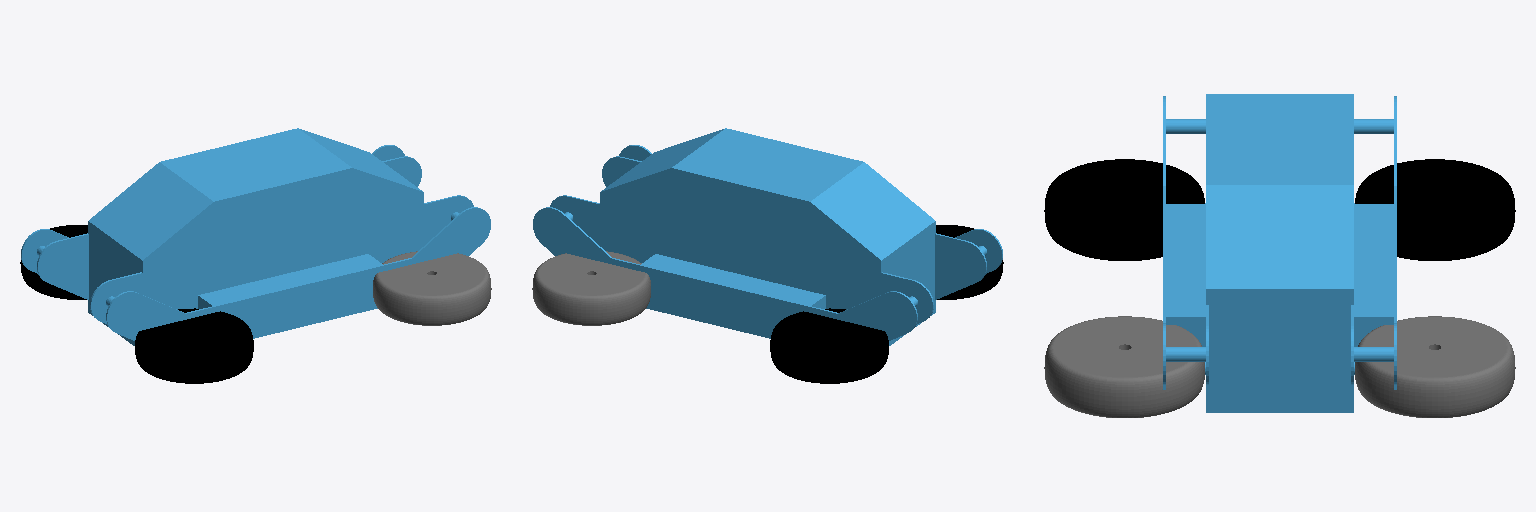
The robot description file, URDF, robot "guardian":
<?xml version="1.0"?>
<robot name="guardian"

       xmlns:xi="http://www.w3.org/2001/XInclude"
       xmlns:gazebo="http://playerstage.sourceforge.net/gazebo/xmlschema/#gz"
       xmlns:model="http://playerstage.sourceforge.net/gazebo/xmlschema/#model"
       xmlns:sensor="http://playerstage.sourceforge.net/gazebo/xmlschema/#sensor"
       xmlns:body="http://playerstage.sourceforge.net/gazebo/xmlschema/#body"
       xmlns:geom="http://playerstage.sourceforge.net/gazebo/xmlschema/#geom"
       xmlns:joint="http://playerstage.sourceforge.net/gazebo/xmlschema/#joint"
       xmlns:interface="http://playerstage.sourceforge.net/gazebo/xmlschema/#interface"
       xmlns:rendering="http://playerstage.sourceforge.net/gazebo/xmlschema/#rendering"
       xmlns:renderable="http://playerstage.sourceforge.net/gazebo/xmlschema/#renderable"
       xmlns:controller="http://playerstage.sourceforge.net/gazebo/xmlschema/#controller"
       xmlns:physics="http://playerstage.sourceforge.net/gazebo/xmlschema/#physics">

  <!-- BASE FOOTPRINT -->

  <!-- base_footprint is a fictitious link(frame) that is on the ground right below base_link origin,
             navigation stack depends on this frame -->
  <link name="base_footprint">
      <inertial>
          <mass value="0.0001" />
          <origin xyz="0 0 0" />
      <inertia ixx="0.0001" ixy="0.0" ixz="0.0"
                         iyy="0.0001" iyz="0.0" 
                         izz="0.0001" />
      </inertial>

      <visual>
          <origin xyz="0 0 0" rpy="0 0 0" />
          <geometry>
             <box size="0.001 0.001 0.001" />
          </geometry>
      </visual>

      <collision>
          <origin xyz="0 0 0.0" rpy="0 0 0" /> <!-- 0.0 0.0 0.1285 //meu 0 0 0.151 -->
          <geometry>
            <box size="0.001 0.001 0.001" />
         </geometry>
     </collision>
  </link>

  <gazebo reference="base_footprint">
    <material>Gazebo/Green</material>
    <turnGravityOff>false</turnGravityOff>
  </gazebo>

  <joint name="base_footprint_joint" type="fixed">
     <!--NB: While you would think this would make it go up, it is oddly reversed.
      This moves the joint to 0,0,0 where we want it for rviz, etc. -->
     <origin xyz="0 0 0.130" rpy="0 0 0" />    <!-- 0.0 0.0 0.161 -->     
     <parent link="base_footprint"/>
     <child link="base_link" />
  </joint>


  <!-- BASE_LINK (RED) -->

  <link name="base_link">
    <inertial>
      <mass value="70.0" />
      <origin xyz="0 0 0" />
      <inertia  ixx="1.391" ixy="0.004"  ixz="0.0"  iyy="6.853"  iyz="0.0"  izz="6.125" />
    </inertial>
    <visual>
       <origin xyz="0 0 0" rpy="0 0 0" />
       <geometry>
	 <mesh filename="package://guardian_description/meshes/chassis.stl"/>
       </geometry>
    </visual>
    <collision>
       <origin xyz="0 0 0.06" rpy="0 0 0 " />
       <geometry>
         <!--mesh filename="package://guardian_description/meshes/chassis.stl"/-->
	 <box size = "1.0 0.4 0.2"/>
       </geometry>
    </collision>     
  </link>
  <gazebo reference="base_link">
    <material>Gazebo/Red</material>
    <turnGravityOff>false</turnGravityOff>
  </gazebo>


  <!-- BACK LEFT WHEEL (BLACK) -->

  <link name="back_left_wheel">
    <inertial>
      <mass value="1.250" />
      <origin xyz="0 0 0" /> 
      <!--inertia  ixx="0.0109375" ixy="0.0"  ixz="0.0"  iyy="0.021125"  iyz="0.0"  izz="0.0109375" /-->
      <inertia  ixx="0.0109375" ixy="0.0"  ixz="0.0"  iyy="0.021125"  iyz="0.0"  izz="0.0109375" />
      <!--inertia ixx="1.0" ixy="0.0" ixz="0.0" iyy="1.0" iyz="0.0" izz="1.0"/-->
      <!--inertia  ixx="0.00584" ixy="0.0"  ixz="0.0"  iyy="0.00584"  iyz="0.0"  izz="0.01072"/-->
    </inertial>
    <visual>
       <origin xyz="0 0 0" rpy="1.5708 0 0" /> 
       <geometry>
	 <mesh filename="package://guardian_description/meshes/wheel.stl"/>
       </geometry>
	<material name="black">
		<color rgba="0 0 0 1"/>
      	</material>
    </visual>
    <collision>
       <origin xyz="0 0 0" rpy="1.5708 0 0" />
       <geometry>
         <mesh filename="package://guardian_description/meshes/wheel.stl"/>
       </geometry>
    </collision>
  </link>
  <gazebo reference="back_left_wheel">
    <mu1 value="10.0" /> <!-- Estava en tots els mu1 a 2.0 xo crec que patina massa -->
    <mu2 value="1.0" />
    <fdir1 value="1 0 0"/>
    <material>Gazebo/Black</material>
    <turnGravityOff>false</turnGravityOff>
  </gazebo>

  <joint name="joint_back_left_wheel" type="continuous">
    <parent link="base_link"/>
    <child link="back_left_wheel"/>
    <origin xyz="-0.30 0.25 0" rpy="0 0 0" /> 
    <axis xyz="0 1 0" rpy="0 0 0" />
    <limit effort="100" velocity="100"/>
    <joint_properties damping="0.0" friction="0.0"/>
  </joint>

  <transmission name="joint_blw_trans" type="pr2_mechanism_model/SimpleTransmission">
     <actuator name="joint_blw_motor" />
     <joint name="joint_back_left_wheel" />
     <mechanicalReduction>1</mechanicalReduction>
     <motorTorqueConstant>1</motorTorqueConstant>
  </transmission>


  <!-- BACK RIGHT WHEEL (BLACK) -->

  <link name="back_right_wheel">
    <inertial>
      <mass value="1.250" />
      <origin xyz="0 0 0" />
      <inertia  ixx="0.0109375" ixy="0.0"  ixz="0.0"  iyy="0.021125"  iyz="0.0"  izz="0.0109375" />
    </inertial>
    <visual>
       <origin xyz="0 0 0" rpy="1.5708 0 0" /> 
       <geometry>
         <mesh filename="package://guardian_description/meshes/wheel.stl"/>
       </geometry>
	<material name="black">
		<color rgba="0 0 0 1"/>
      	</material>
    </visual>
    <collision>
       <origin xyz="0 0 0" rpy="1.5708 0 0" /> 
       <geometry>
         <mesh filename="package://guardian_description/meshes/wheel.stl"/>
       </geometry>
    </collision>
  </link>
  <gazebo reference="back_right_wheel">
    <mu1 value="10.0" /> <!-- Estava en tots els mu1 a 2.0 -->
    <mu2 value="1.0" />
    <fdir1 value="1 0 0"/>
    <material>Gazebo/Black</material>
    <turnGravityOff>false</turnGravityOff>
  </gazebo>

  <joint name="joint_back_right_wheel" type="continuous">
    <parent link="base_link"/>
    <child link="back_right_wheel"/>
    <origin xyz="-0.30 -0.25 0" rpy="0 0 0" />
    <axis xyz="0 1 0" />
    <limit effort="100" velocity="100"/>
    <joint_properties damping="0.0" friction="0.0"/>
  </joint>

  <transmission name="joint_brw_trans" type="pr2_mechanism_model/SimpleTransmission">
     <actuator name="joint_brw_motor" />
     <joint name="joint_back_right_wheel" />
     <mechanicalReduction>1</mechanicalReduction>
     <motorTorqueConstant>1</motorTorqueConstant>
  </transmission>


  <!-- FRONT LEFT WHEEL (GREY) -->

  <link name="front_left_wheel">
    <inertial>
      <mass value="1.250" />
      <origin xyz="0 0 0" />
      <inertia  ixx="0.0109375" ixy="0.0"  ixz="0.0"  iyy="0.021125"  iyz="0.0"  izz="0.0109375" />
    </inertial>
    <visual>
       <origin xyz="0 0 0" rpy="1.5708 0 0" /> 
       <geometry>
         <mesh filename="package://guardian_description/meshes/wheel.stl"/>
       </geometry>
	<material name="gray">
		<color rgba="0.5 0.5 0.5 1"/>
      	</material>
    </visual>
    <collision>
       <origin xyz="0 0 0" rpy="1.5708 0 0" /> 
       <geometry>
         <mesh filename="package://guardian_description/meshes/wheel.stl"/>
       </geometry>
    </collision>
  </link>
  <gazebo reference="front_left_wheel">
    <mu1 value="10.0" /> <!-- Estava en tots els mu1 a 2.0 -->
    <mu2 value="1.0" />
    <fdir1 value="1 0 0"/>
    <material>Gazebo/Grey</material>
    <turnGravityOff>false</turnGravityOff>
  </gazebo>

  <joint name="joint_front_left_wheel" type="continuous">
    <parent link="base_link"/>
    <child link="front_left_wheel"/>
    <origin xyz="0.30 0.25 0" rpy="0 0 0" />
    <axis xyz="0 1 0" />
    <limit effort="100" velocity="100"/>
    <joint_properties damping="0.0" friction="0.0"/>
  </joint>

  <transmission name="joint_flw_trans" type="pr2_mechanism_model/SimpleTransmission">
     <actuator name="joint_flw_motor" />
     <joint name="joint_front_left_wheel" />
     <mechanicalReduction>1</mechanicalReduction>
     <motorTorqueConstant>1</motorTorqueConstant>
  </transmission>


  <!-- FRONT RIGHT WHEEL (GREY) -->

  <link name="front_right_wheel">
    <inertial>
      <mass value="1.250" />
      <origin xyz="0 0 0" />
      <inertia  ixx="0.0109375" ixy="0.0"  ixz="0.0"  iyy="0.021125"  iyz="0.0"  izz="0.0109375" />
    </inertial>
    <visual>
       <origin xyz="0 0 0" rpy="1.5708 0 0" /> 
       <geometry>
         <mesh filename="package://guardian_description/meshes/wheel.stl"/>
       </geometry>
	<material name="grey">
		<color rgba="0.5 0.5 0.5 1"/>
      	</material>
    </visual>
    <collision>
       <origin xyz="0 0 0" rpy="1.5708 0 0" /> 
       <geometry>
         <mesh filename="package://guardian_description/meshes/wheel.stl"/> 
       </geometry>
    </collision>
  </link>
  <gazebo reference="front_right_wheel">
    <mu1 value="10.0" /> <!-- Estava en tots els mu1 a 2.0 -->
    <mu2 value="1.0" /> <!-- Estava en tots els mu2 a 0.5 -->
    <fdir1 value="1 0 0"/>
    <material>Gazebo/Grey</material>
    <turnGravityOff>false</turnGravityOff>
  </gazebo>

  <joint name="joint_front_right_wheel" type="continuous">
    <parent link="base_link"/>
    <child link="front_right_wheel"/>
    <origin xyz="0.30 -0.25 0" rpy="0 0 0" />
    <axis xyz="0 1 0" />
    <limit effort="100" velocity="100"/>
    <joint_properties damping="0.0" friction="0.0"/>
  </joint>

  <transmission name="joint_frw_trans" type="pr2_mechanism_model/SimpleTransmission">
     <actuator name="joint_frw_motor" />
     <joint name="joint_front_right_wheel" />
     <mechanicalReduction>1</mechanicalReduction>
     <motorTorqueConstant>1</motorTorqueConstant>
  </transmission>


  <!-- HOKUYO SENSOR -->

  <joint name="hokuyo_laser_joint" type="fixed">
     <axis xyz="0 1 0" />
     <origin xyz="0.12 0 0.285"/>
     <parent link="base_link"/>
     <child link="hokuyo_laser_link"/>
  </joint>
  <link name="hokuyo_laser_link" type="laser">
     <inertial>
       <mass value="0.001" />
       <origin xyz="0 0 0" rpy="0 0 0" />
       <inertia ixx="0.0001" ixy="0" ixz="0" iyy="0.000001" iyz="0" izz="0.0001" />
    </inertial>
  </link>

  <!-- This adds a visual box to allow us to see the Hokuyo in rviz/gazebo -->
  <joint name="hokuyo_laser_box_joint" type="fixed">
    <origin xyz="0 0 0" rpy="0 0 0" />
    <parent link="hokuyo_laser_link" />
    <child link="hokuyo_laser_box_link"/>
  </joint>
  <link name="hokuyo_laser_box_link">
    <inertial>
      <mass value="0.01" />
      <origin xyz="0 0 0" />
      <inertia ixx="0.001"  ixy="0.0"  ixz="0.0"
               iyy="0.001"  iyz="0.0"
               izz="0.001" />
    </inertial>
    <visual>
      <origin xyz="0 0 0" rpy="0 0 0"/>
      <geometry>
        <!--box size="0.05 0.05 0.1" /-->
	<mesh filename= "package://pr2_description/meshes/tilting_laser_v0/hok_tilt.stl" scale="0.5 0.5 0.5"/>
      </geometry>
    </visual>
    <collision>
      <origin xyz="0 0 0" rpy="0 0 0"/>
      <geometry>
        <box size="0.05 0.05 0.1" />
      </geometry>
    </collision>
  </link>

  <gazebo reference="hokuyo_laser_box_link">
    <material>Gazebo/Black</material>
    <turnGravityOff>false</turnGravityOff>
  </gazebo>

  <!-- IMU SENSOR -->

  <joint name="imu_joint" type="fixed">
      <axis xyz="1 0 0"/> <!-- 0 1 0 -->
      <origin xyz="0 0 0.2825"/>
      <parent link="base_link"/>
      <child link="imu_link"/>
  </joint>


  <link name="imu_link">
      <inertial>
        <mass value="0.001"/>
        <origin rpy="0 0 0" xyz="0 0 0"/>
        <inertia ixx="0.0001" ixy="0" ixz="0" iyy="0.000001" iyz="0" izz="0.0001"/>
      </inertial>
      <visual>
        <origin rpy="0 0 0" xyz="0 0 0"/>
        <geometry>
          <box size="0.001 0.001 0.001"/>
        </geometry>
      </visual>
      <collision>
        <origin rpy="0 0 0" xyz="0 0 0"/>
        <geometry>
          <box size=".001 .001 .001"/>
        </geometry>
      </collision>
  </link>

</robot>

--- What the picture shows (computed from the rendered views, not written in the file) ---
3 views of the same robot in one strip: view 1: azimuth 30°, elevation 25°; view 2: azimuth 150°, elevation 25°; view 3: azimuth 270°, elevation 25° (orthographic).
Robot: guardian — 9 links, 8 joints (4 continuous, 4 fixed); root link base_footprint; default pose: every joint at zero.
Visible links, largest first — view 1: base_link, front_right_wheel, back_right_wheel, back_left_wheel; view 2: base_link, front_left_wheel, back_left_wheel, back_right_wheel; view 3: base_link, front_left_wheel, front_right_wheel, back_right_wheel, back_left_wheel.
Boxes of the visible links, x1,y1,x2,y2 form: base_link: [21, 128, 490, 345]; front_right_wheel: [373, 251, 491, 325]; back_right_wheel: [135, 308, 253, 383]; back_left_wheel: [20, 225, 87, 299]; base_link: [533, 128, 1002, 345]; front_left_wheel: [532, 251, 650, 325]; back_left_wheel: [770, 308, 888, 383]; back_right_wheel: [936, 225, 1003, 299]; base_link: [1163, 94, 1396, 412]; front_left_wheel: [1355, 316, 1515, 417]; front_right_wheel: [1044, 316, 1204, 417]; back_right_wheel: [1044, 159, 1204, 260]; back_left_wheel: [1355, 159, 1515, 260].
Size in the robot's own frame: 0.9696 by 0.76 by 0.4135 metres.
5 mesh visuals loaded from 3 distinct referenced files (2 binary STL); not drawn: 1 (reference not matched to a file when rendering).